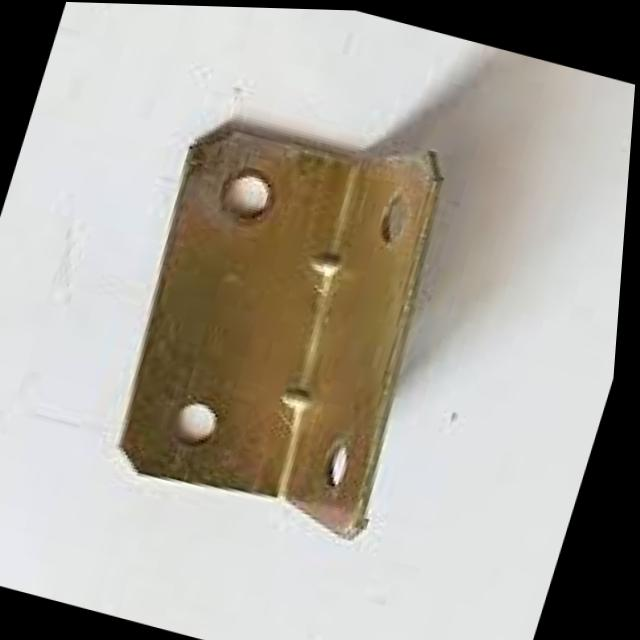holes: (219, 159, 281, 223), (320, 432, 370, 493), (173, 392, 227, 445)
